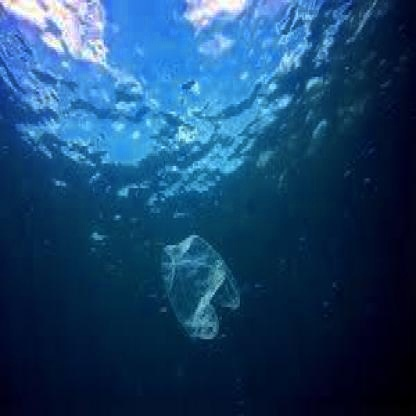pbag: (157, 230, 244, 344)
